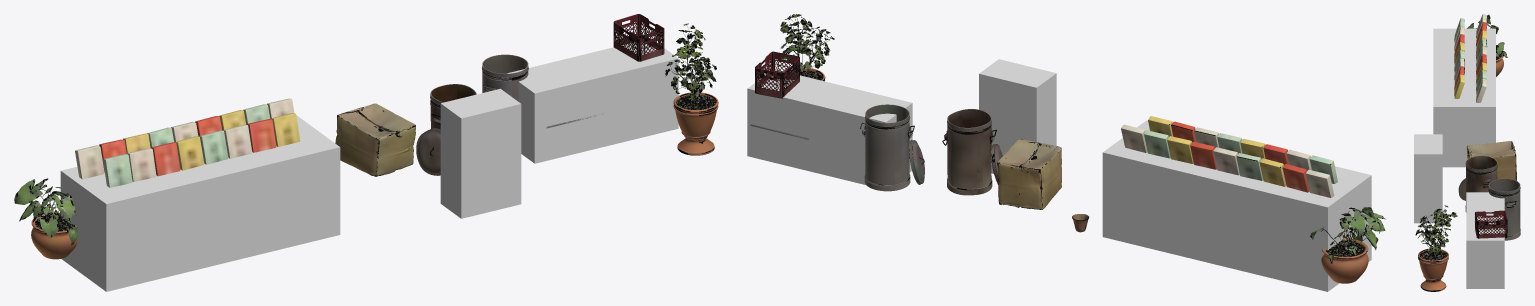
Rendered from sf02_goods.gltf.
3 views of the same model, side by side, from view 1: azimuth 30°, elevation 25°; view 2: azimuth 150°, elevation 25°; view 3: azimuth 270°, elevation 25° (orthographic). The views are drawn at different scales.
Visible parts, largest first — view 1: sf02_goods_COL, sf02_goods_LOD0; view 2: sf02_goods_COL, sf02_goods_LOD0; view 3: sf02_goods_COL, sf02_goods_LOD0.
Boxes of the visible parts, x1,y1,x2,y2 form: sf02_goods_COL: (60, 38, 678, 291); sf02_goods_LOD0: (14, 14, 718, 259); sf02_goods_COL: (747, 59, 1371, 291); sf02_goods_LOD0: (750, 14, 1385, 283); sf02_goods_COL: (1414, 28, 1504, 288); sf02_goods_LOD0: (1415, 14, 1520, 291).
Size of what is drawn, in the model's own units: 5.52 by 0.9361 by 1.12.
1 material, 1 textured.
